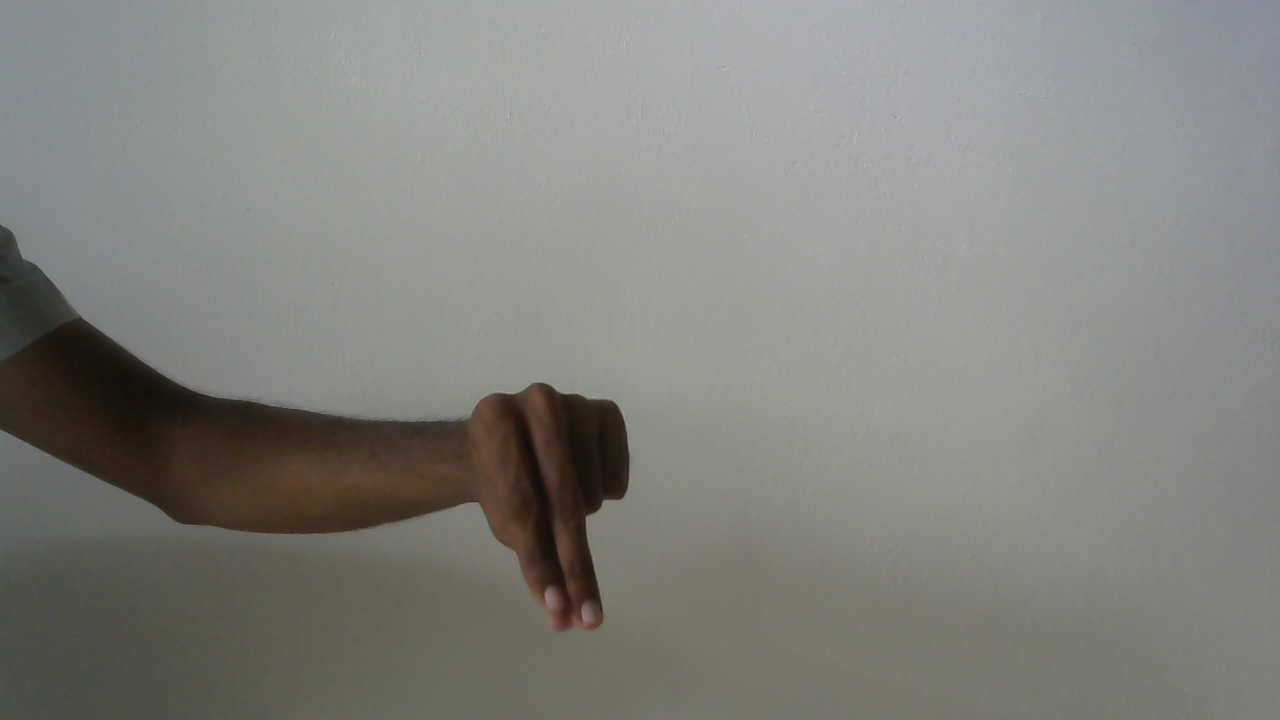no: (449, 350, 678, 646)
